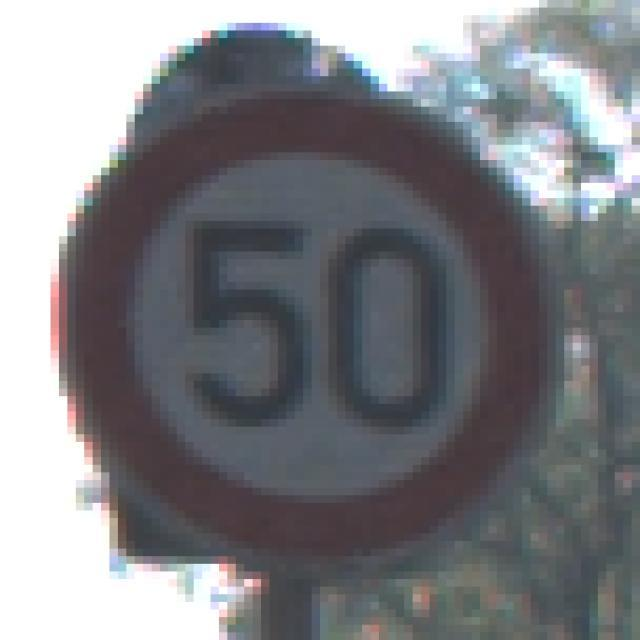speed limit 50: (45, 98, 571, 571)
